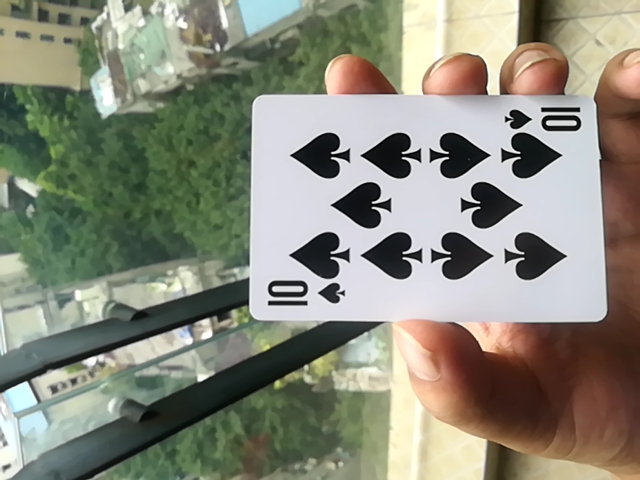ht 10: (240, 85, 612, 331)
